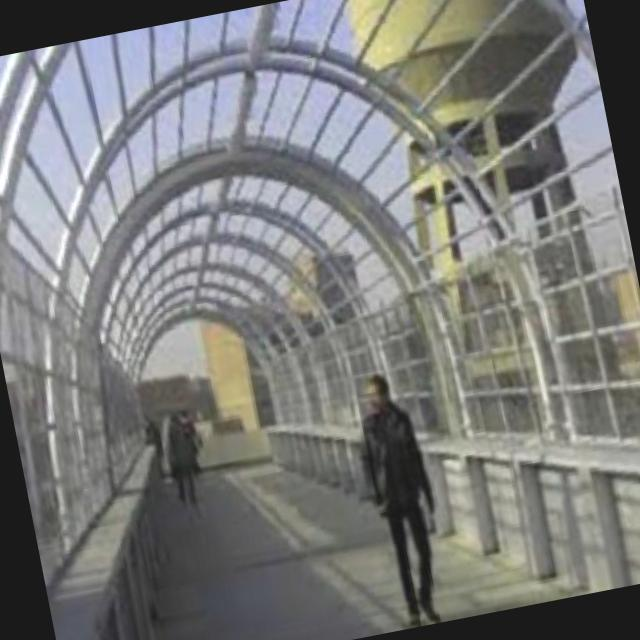Person: (342, 358, 468, 630), (155, 402, 209, 514)
